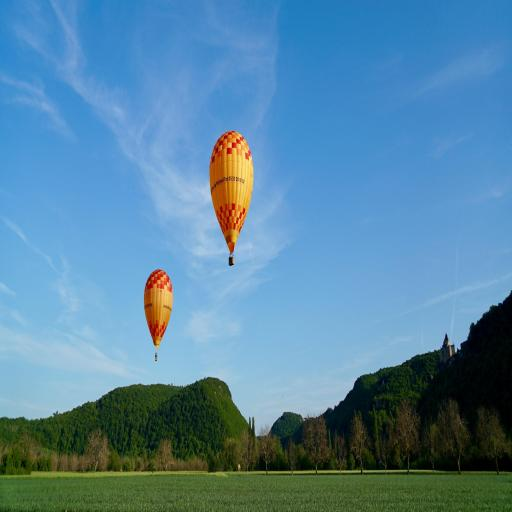hot air ballon: (209, 131, 254, 266), (144, 268, 174, 361)
